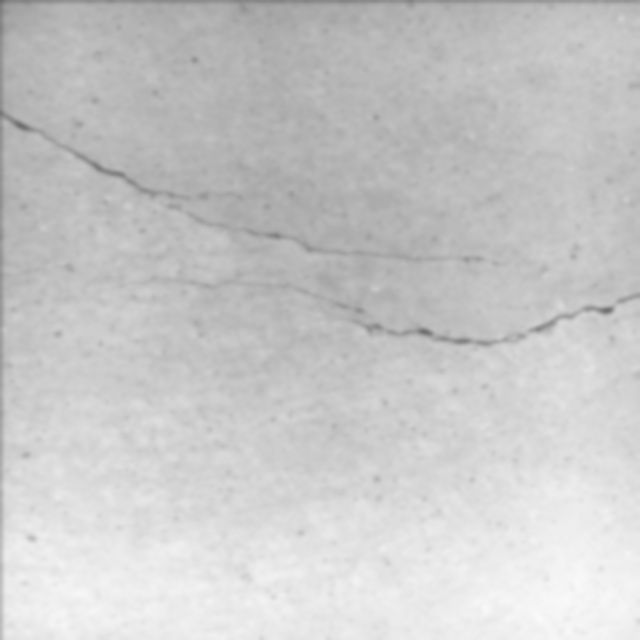SurfaceCrack: (1, 165, 640, 369)
